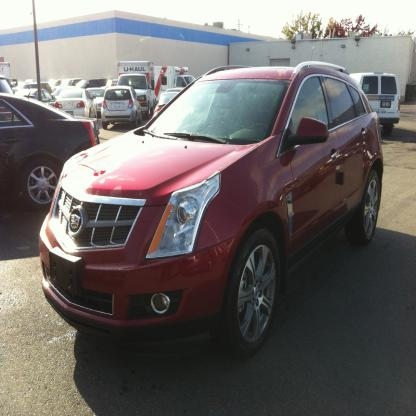Vehicle: (38, 63, 387, 352)
